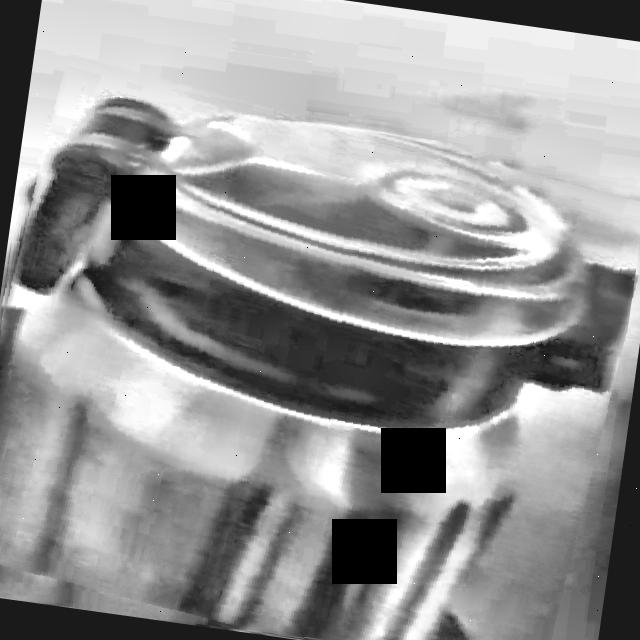bottle: (0, 106, 634, 640)
